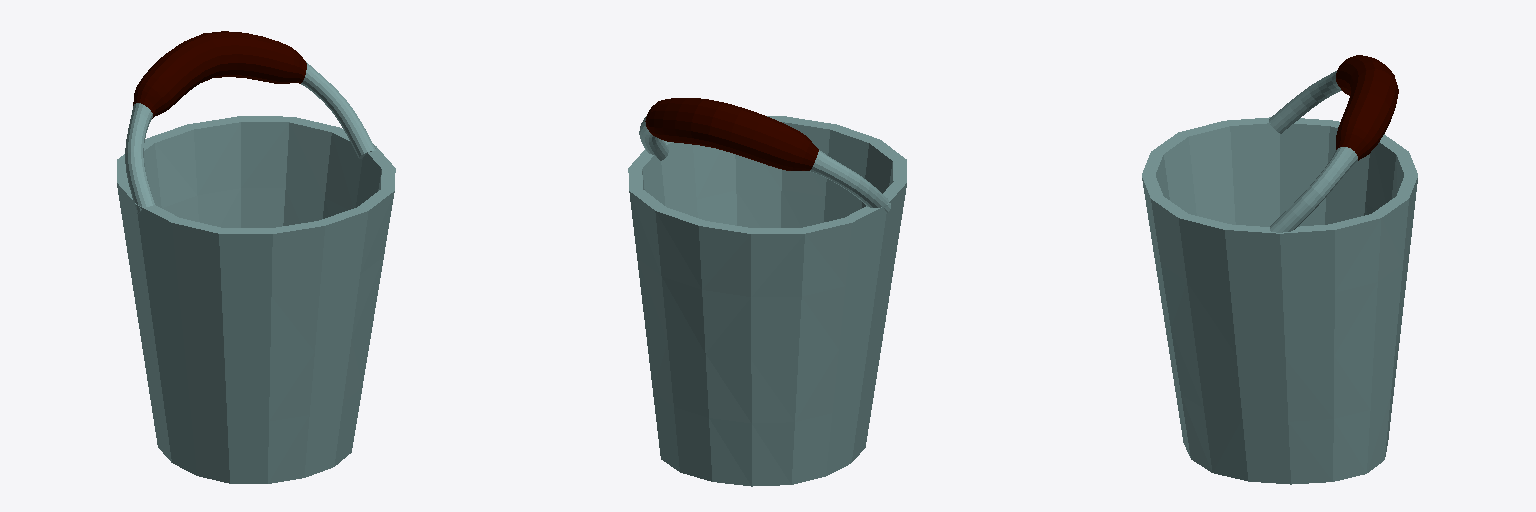
Rendered from bucket.obj.
3 renders of one model, left to right at view 1: azimuth 30°, elevation 25°; view 2: azimuth 150°, elevation 25°; view 3: azimuth 270°, elevation 25°, orthographic.
Visible parts, largest first — view 1: Bucket_Cube.1436; view 2: Bucket_Cube.1436; view 3: Bucket_Cube.1436.
Part boxes in pixels (bbox=[...]): Bucket_Cube.1436: bbox=[117, 31, 395, 483]; Bucket_Cube.1436: bbox=[628, 98, 906, 486]; Bucket_Cube.1436: bbox=[1142, 55, 1417, 484].
Size of the model in its own units: 1.31 by 1.95 by 1.31.